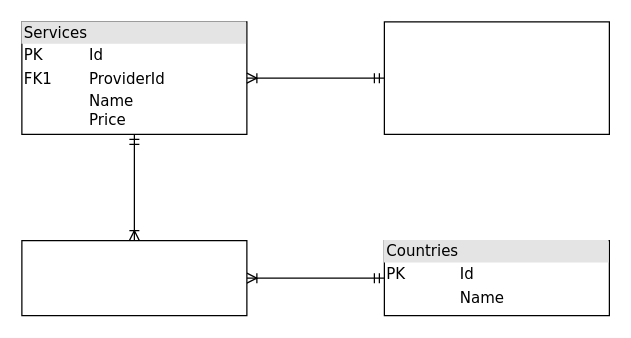
The diagram is 631 pixels wide and 338 high, and some of its shapes have lost their labels. The shapes that lost their labels are listed below. From the top down, each one's centre as x and y in pixels, then its label:
At [496,77]: "Clients PK Id Name Email Nit".
At [134,277]: "ServiceCountry FK1 serviceId FK2 countryId".
